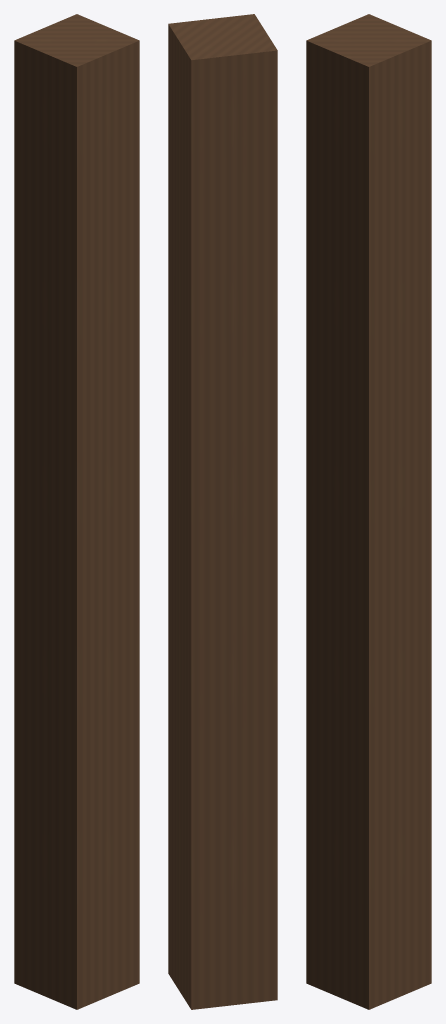
The model's file is atlas100-s012-a05.lod2.glb.
3 views of the same model, side by side, from view 1: azimuth 90°, elevation 25°; view 2: azimuth 150°, elevation 25°; view 3: azimuth 270°, elevation 25° (orthographic).
Visible parts, largest first — view 1: atlas100-s012-a05:part-000; view 2: atlas100-s012-a05:part-000; view 3: atlas100-s012-a05:part-000.
Boxes of the visible parts, left/top/right/bottom form: atlas100-s012-a05:part-000: left=14, top=14, right=139, bottom=1009; atlas100-s012-a05:part-000: left=168, top=14, right=277, bottom=1009; atlas100-s012-a05:part-000: left=306, top=14, right=431, bottom=1009.
Size of the model in its own units: 0.0764 by 0.6334 by 0.0764.
1 material, 1 textured.
